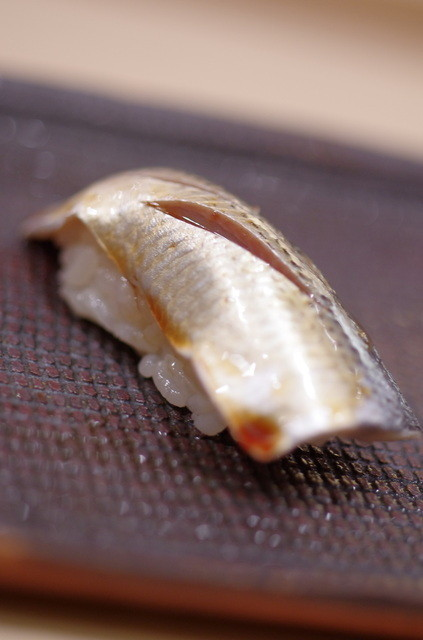spotted-shad: (21, 164, 413, 468)
